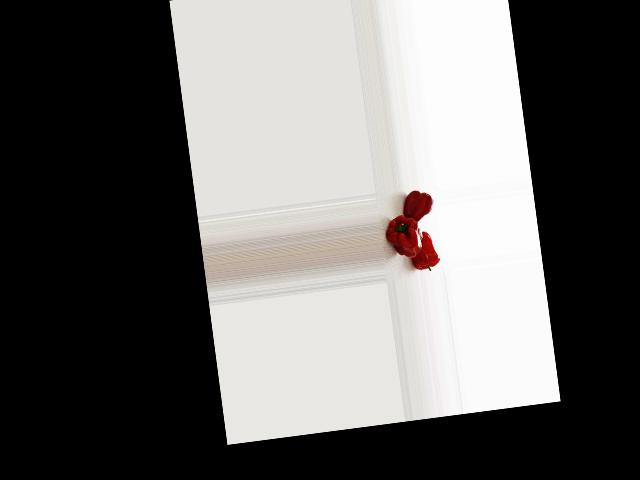bell_pepper: (399, 186, 435, 221)
